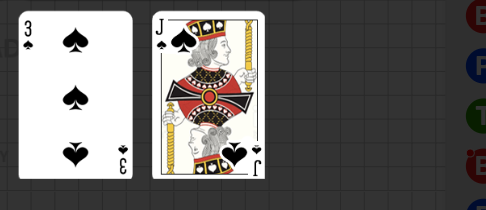3S: (116, 142, 129, 175)
JS: (220, 130, 264, 177), (153, 10, 197, 56)
